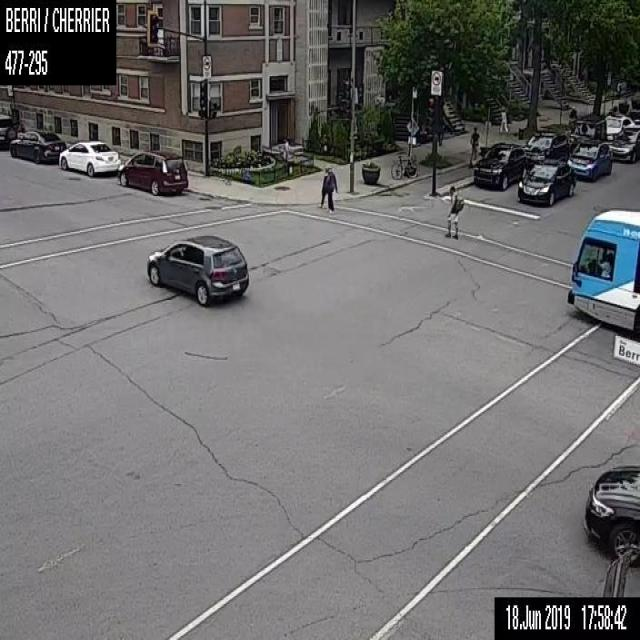bus: (566, 209, 639, 335)
pedestrian: (444, 184, 463, 237), (327, 166, 337, 212), (468, 126, 479, 163), (319, 167, 328, 210), (498, 105, 507, 132)
vehicle: (145, 233, 249, 303), (582, 463, 639, 565), (116, 150, 187, 194), (473, 142, 529, 190), (517, 162, 575, 205), (58, 140, 120, 174), (10, 130, 66, 163), (566, 142, 612, 180), (523, 130, 567, 164), (568, 112, 606, 148), (608, 126, 639, 162), (606, 114, 634, 141), (0, 113, 14, 148)
